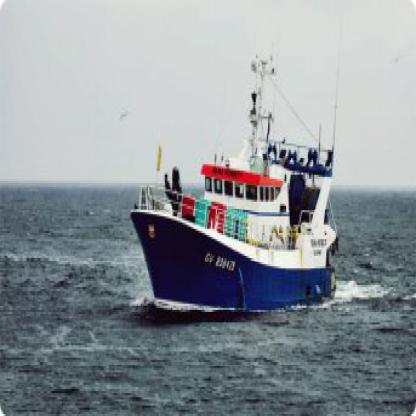fish-b: (120, 34, 354, 318)
